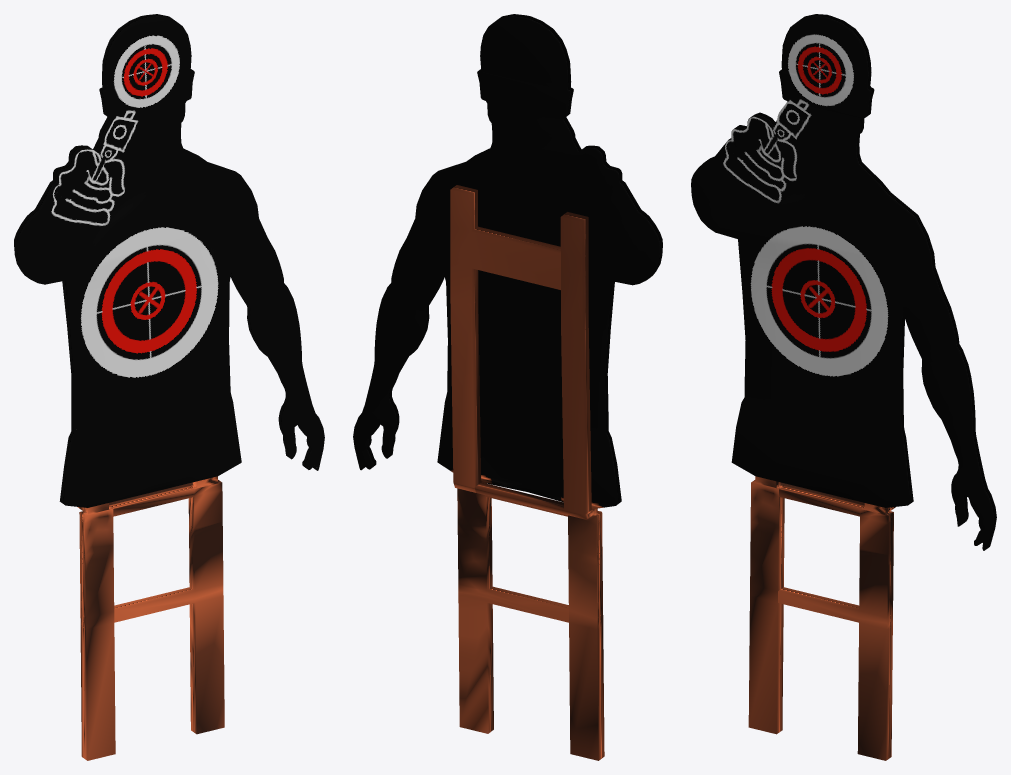
Rendered from target_bawah2.glb.
The picture shows the model from 3 angles, left to right: view 1: azimuth 30°, elevation 25°; view 2: azimuth 150°, elevation 25°; view 3: azimuth 330°, elevation 25°; orthographic projection.
Visible parts, largest first — view 1: Target; view 2: Target; view 3: Target.
Boxes of the visible parts, x1,y1,x2,y2 form: Target: (14, 14, 324, 760); Target: (353, 14, 662, 760); Target: (691, 14, 996, 760).
Bounding box in the file's own units: 2.8 × 6.35 × 0.3008.
Materials: 1 (1 with a texture image).
